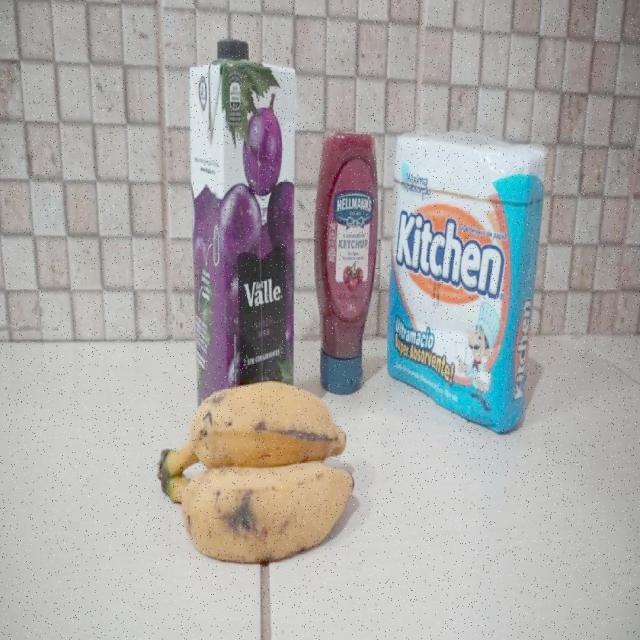Banana: (165, 378, 354, 568)
Ketchup: (316, 130, 380, 362)
Napkin: (387, 129, 546, 432)
